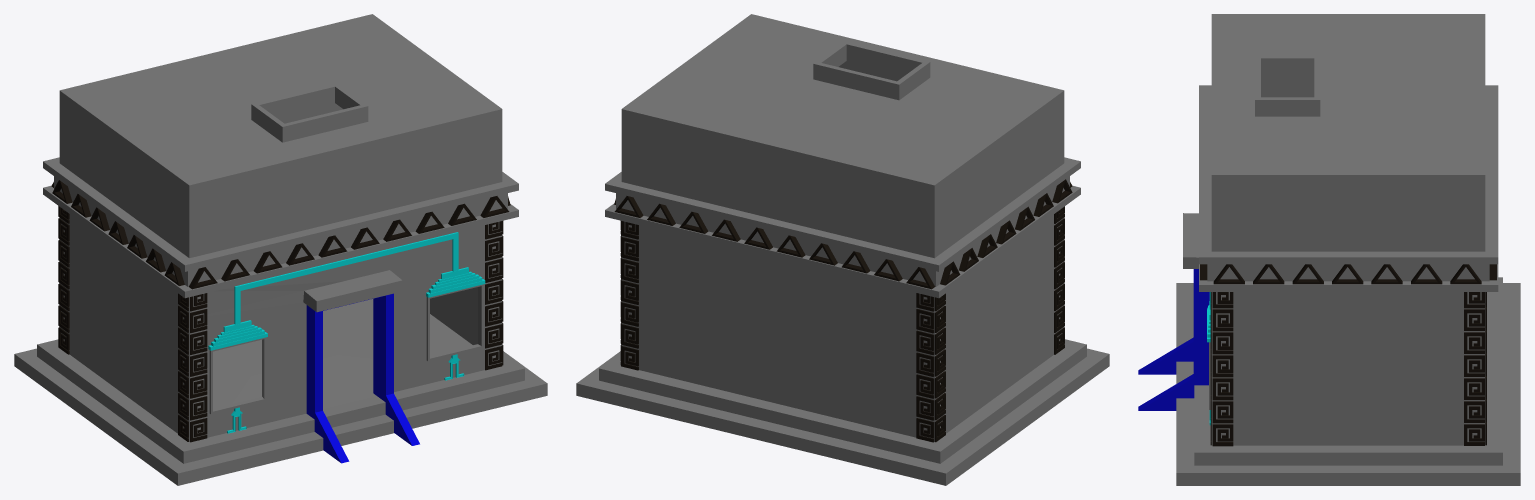
File: Casa_ricos_1.fbx
3 renders of one model, left to right at view 1: azimuth 30°, elevation 25°; view 2: azimuth 150°, elevation 25°; view 3: azimuth 270°, elevation 25°, orthographic. The views are drawn at different scales.
Visible parts, largest first — view 1: polySurface218; view 2: polySurface218; view 3: polySurface218.
Boxes of the visible parts, box(x1,y1,x2,y2) form: polySurface218: box(14, 14, 547, 485); polySurface218: box(576, 14, 1109, 485); polySurface218: box(1138, 14, 1520, 485).
Size of the model in its own units: 26.24 by 20.15 by 22.32.
